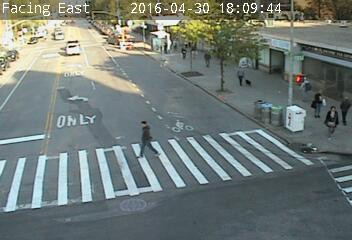neg: (70, 129, 104, 174), (13, 7, 40, 43), (183, 76, 206, 107), (251, 1, 274, 32), (91, 6, 114, 36), (141, 4, 163, 34), (56, 54, 77, 81), (28, 92, 42, 112), (108, 50, 121, 67), (212, 5, 224, 20)
pos: (129, 115, 165, 164), (322, 104, 347, 137), (308, 89, 331, 120), (333, 97, 351, 132), (297, 75, 318, 103), (232, 63, 252, 89), (201, 49, 217, 70), (176, 42, 190, 61), (169, 36, 183, 55)
